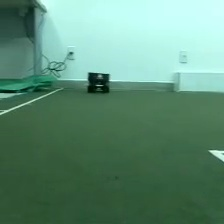goal: (173, 70, 224, 93)
robot: (87, 71, 111, 95)
